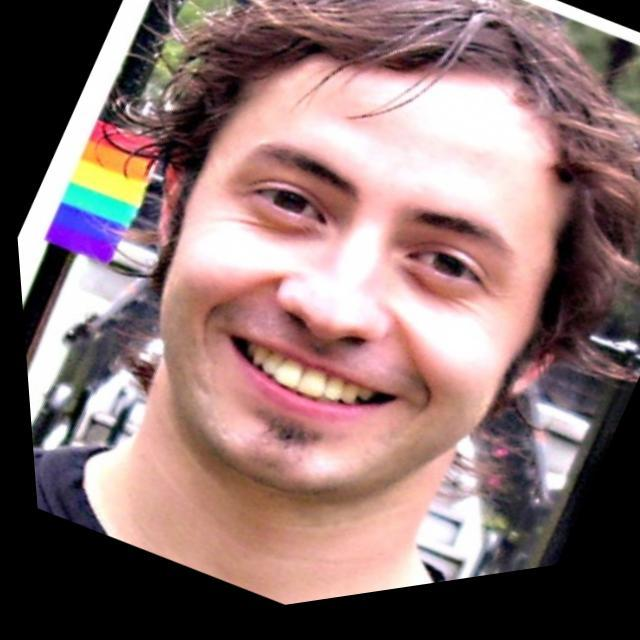Nonhelmet: (98, 0, 639, 508)
